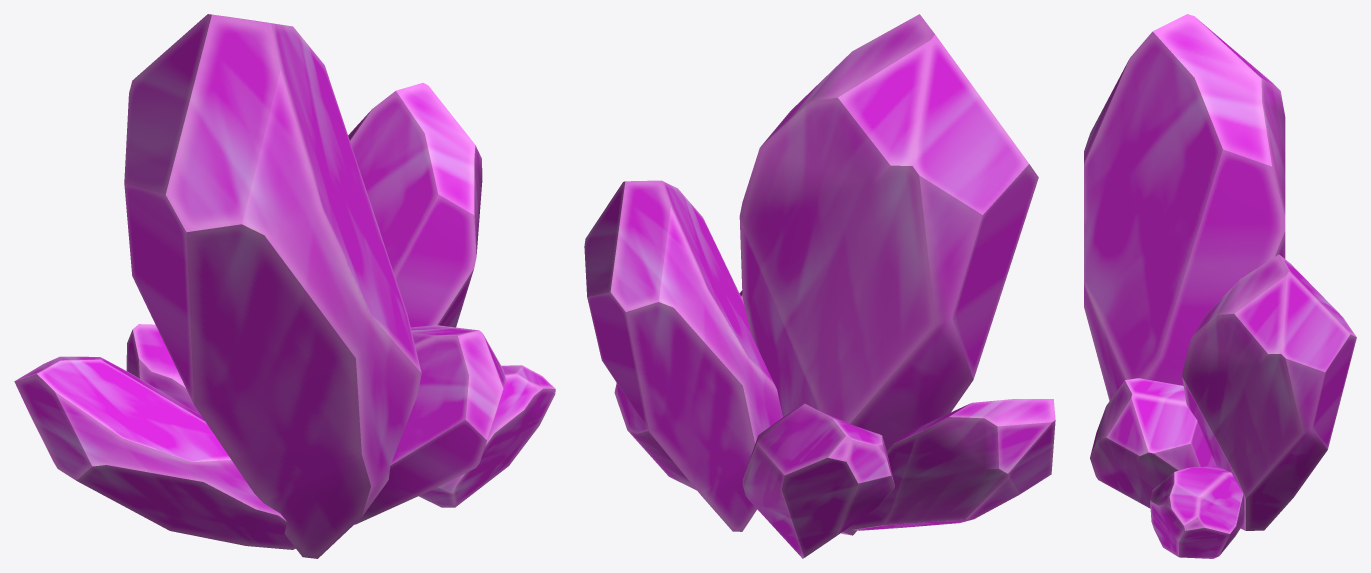
File: Crystal002.fbx
3 renders of one model, left to right at view 1: azimuth 30°, elevation 25°; view 2: azimuth 150°, elevation 25°; view 3: azimuth 270°, elevation 25°, orthographic. The views are drawn at different scales.
Parts seen in each view (by area): view 1: crystalpurple2; view 2: crystalpurple2; view 3: crystalpurple2.
Part boxes in pixels (x1,y1,x2,y2): crystalpurple2: (14, 14, 555, 558); crystalpurple2: (584, 14, 1055, 558); crystalpurple2: (1084, 14, 1356, 558).
Size of the model in its own units: 10.64 by 11.4 by 6.05.
Materials: 1 (1 with a texture image).
